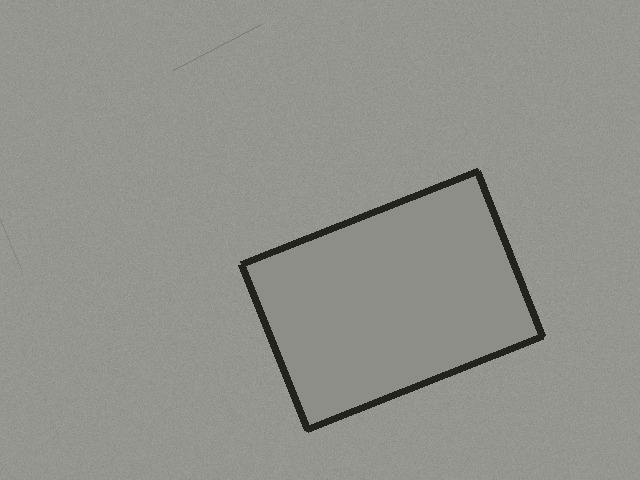parking_area: (241, 171, 542, 429)
